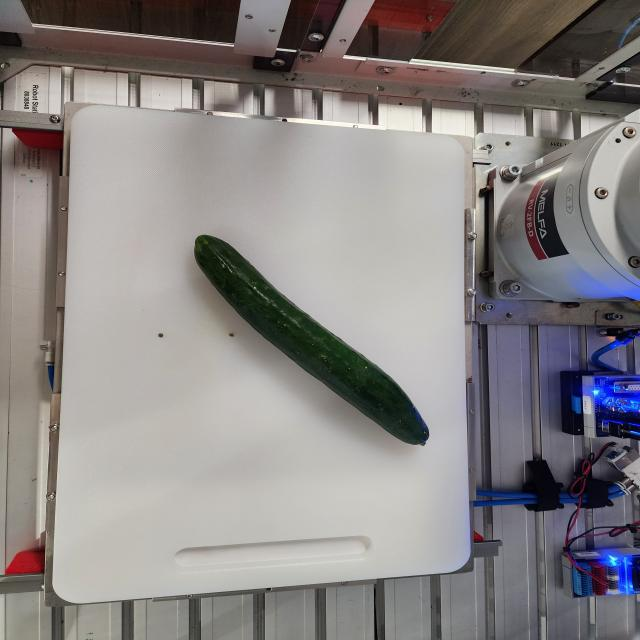cucumber: (193, 233, 430, 447)
